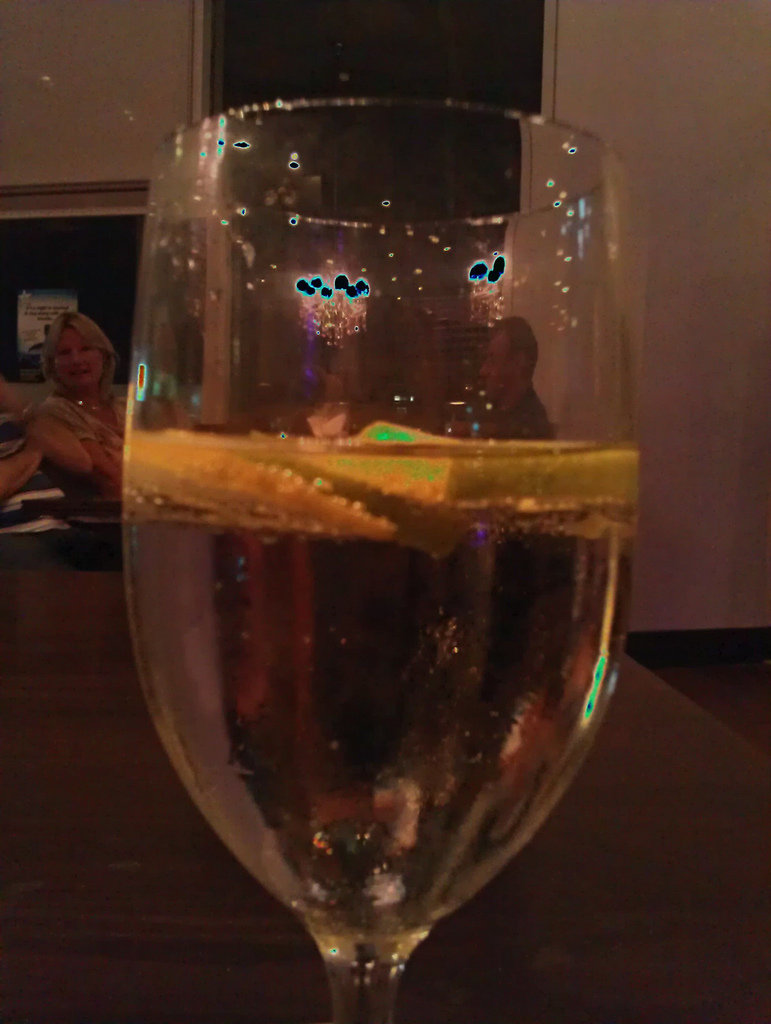glass of water: (129, 328, 633, 1024)
